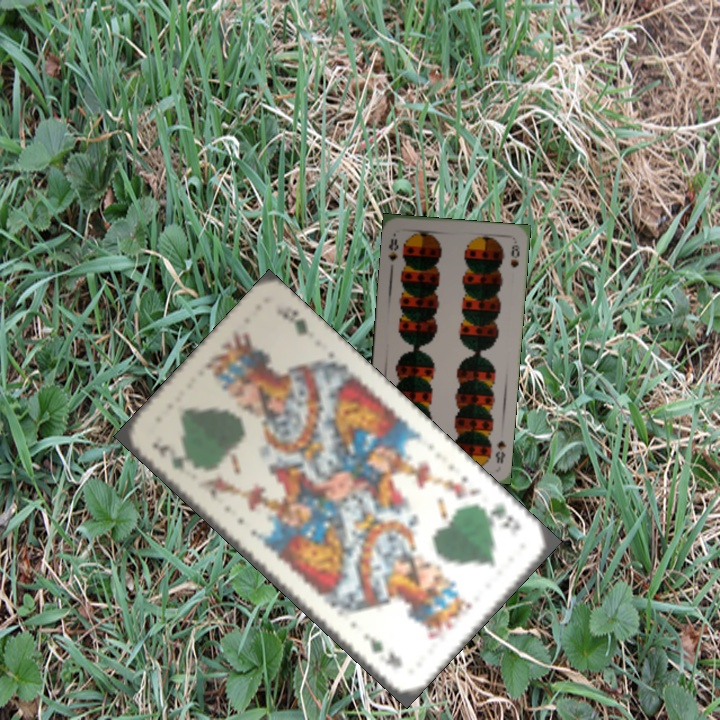GK: (147, 434, 197, 473), (477, 499, 523, 538)
S8: (491, 436, 508, 466), (384, 235, 401, 264)
